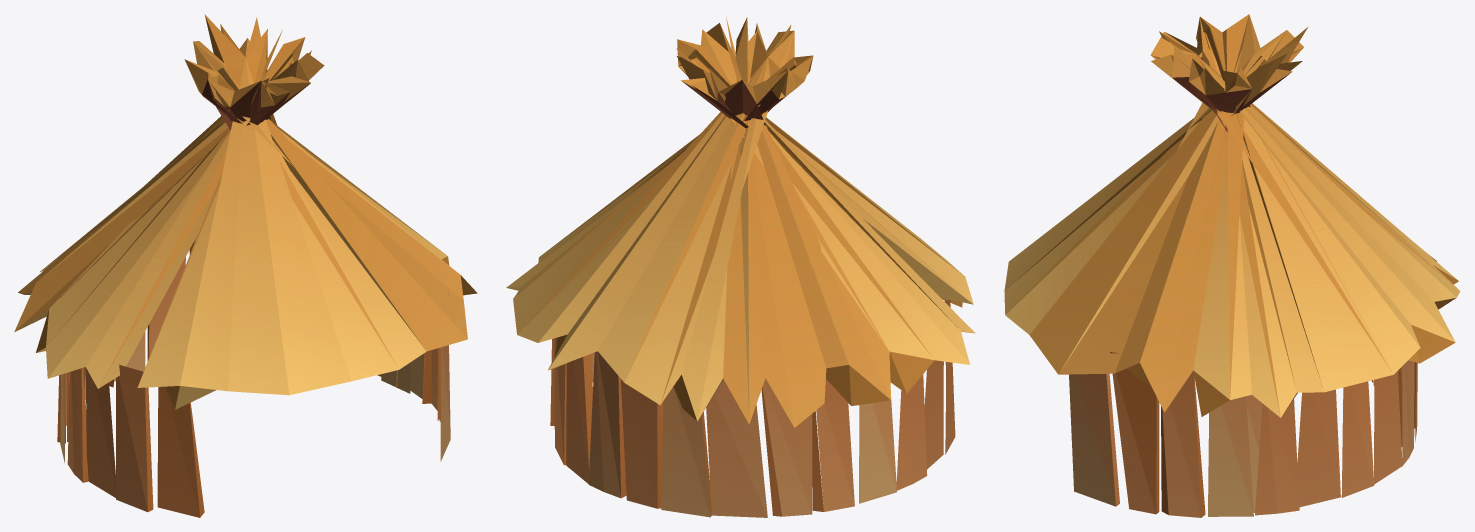
File: GL-Manmade-09-LOD2.fbx
The picture shows the model from 3 angles, left to right: view 1: azimuth 30°, elevation 25°; view 2: azimuth 150°, elevation 25°; view 3: azimuth 270°, elevation 25°; orthographic projection. The views are drawn at different scales.
Visible parts, largest first — view 1: GL_Manmade_09; view 2: GL_Manmade_09; view 3: GL_Manmade_09.
Boxes of the visible parts, x1,y1,x2,y2 form: GL_Manmade_09: (14,14,477,517); GL_Manmade_09: (506,16,975,517); GL_Manmade_09: (1004,14,1460,517).
Size of the model in its own units: 2.24 by 2.01 by 2.06.
